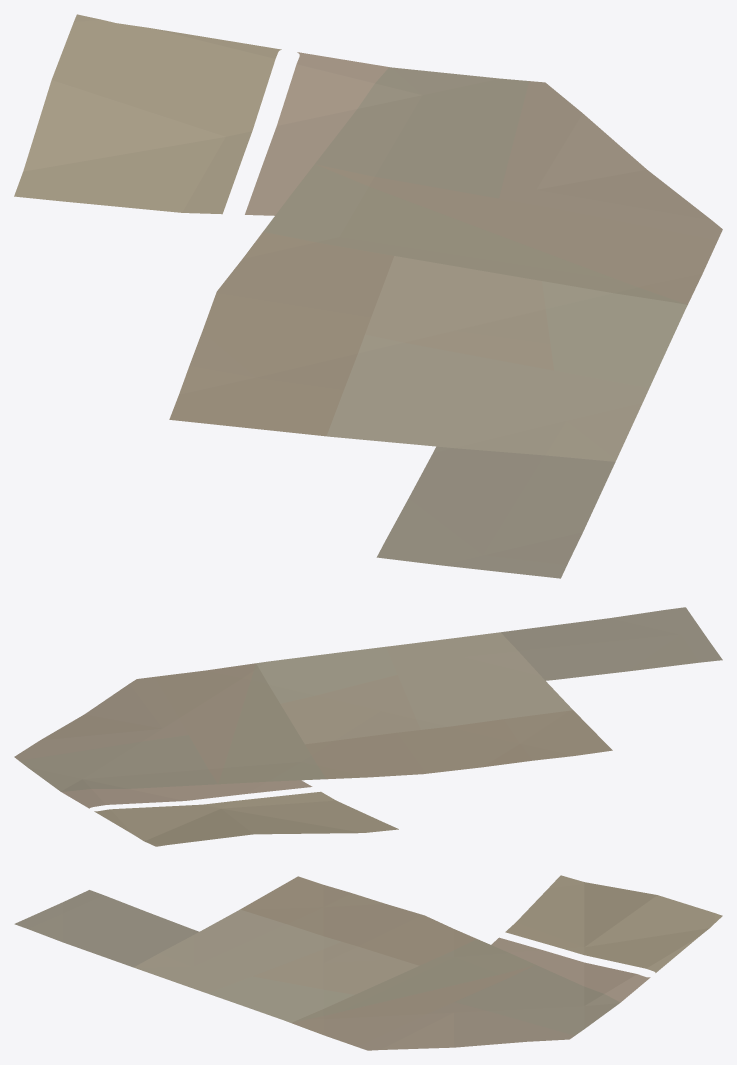
The model's file is farm_-24_-26_soil.glb.
The picture shows the model from 3 angles, top to bottom: view 1: azimuth 30°, elevation 25°; view 2: azimuth 150°, elevation 25°; view 3: azimuth 270°, elevation 25°; orthographic projection. The views are drawn at different scales.
Parts seen in each view (by area): view 1: geometry_0; view 2: geometry_0; view 3: geometry_0.
Part boxes in pixels (<box>): geometry_0: <box>14,14,722,578</box>; geometry_0: <box>14,607,722,846</box>; geometry_0: <box>14,875,722,1050</box>.
Size of the model in its own units: 250 by 31.01 by 435.
